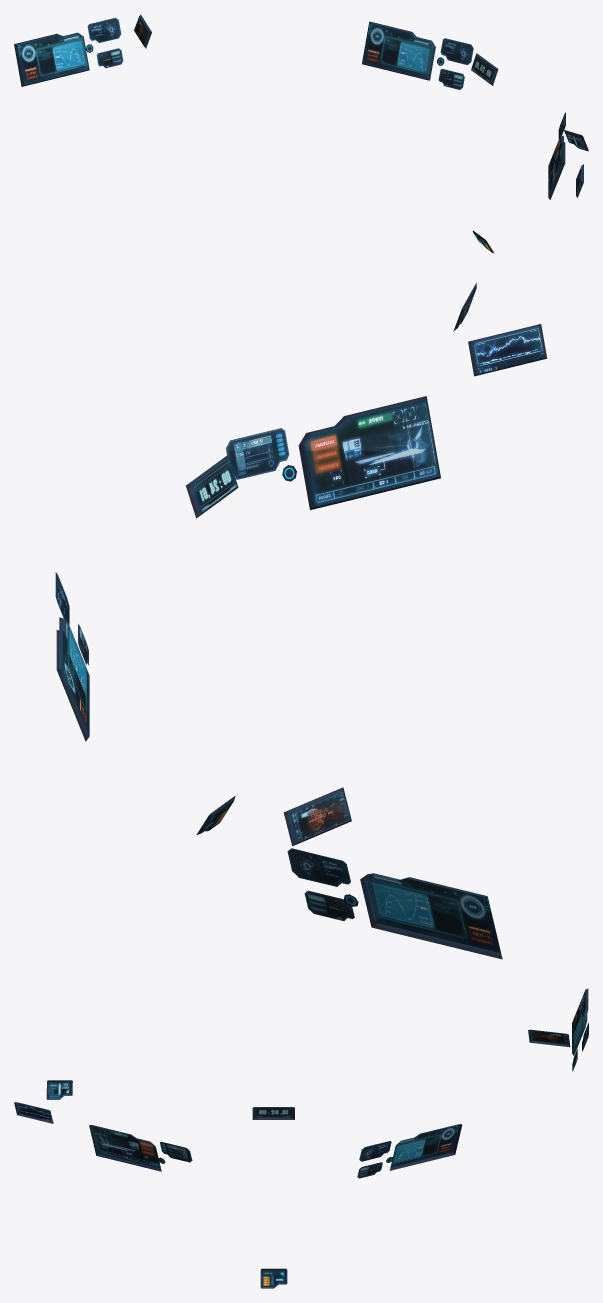
File: ts_cjpm001.FBX
3 views of the same model, one above another, from view 1: azimuth 30°, elevation 25°; view 2: azimuth 150°, elevation 25°; view 3: azimuth 270°, elevation 25° (orthographic). The views are drawn at different scales.
Visible parts, largest first — view 1: ts_cjpm001; view 2: ts_cjpm001; view 3: ts_cjpm001.
Boxes of the visible parts, left/top/right/bottom form: ts_cjpm001: left=14, top=14, right=588, bottom=253; ts_cjpm001: left=55, top=282, right=547, bottom=959; ts_cjpm001: left=14, top=988, right=588, bottom=1288.
Bounding box in the file's own units: 4.98 × 2.84 × 7.5.
